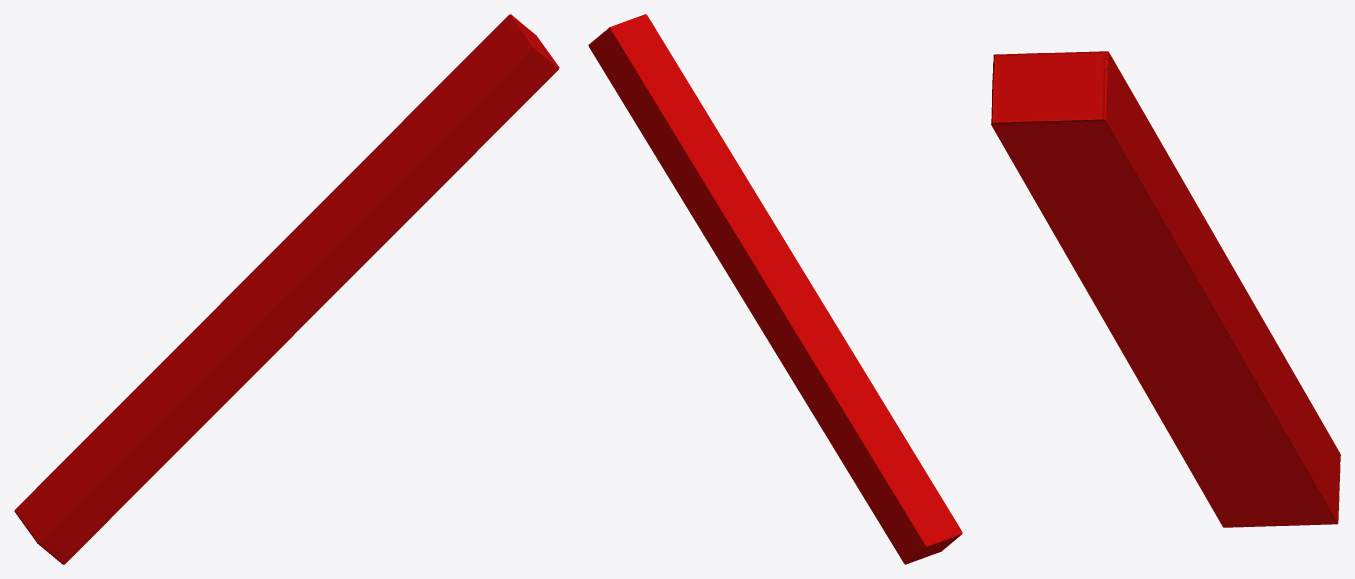
Rendered from empty.obj.
3 renders of one model, left to right at view 1: azimuth 30°, elevation 25°; view 2: azimuth 150°, elevation 25°; view 3: azimuth 270°, elevation 25°, orthographic. The views are drawn at different scales.
Parts seen in each view (by area): view 1: SubTool-9-13009072.008; view 2: SubTool-9-13009072.008; view 3: SubTool-9-13009072.008.
Boxes of the visible parts, x1,y1,x2,y2 form: SubTool-9-13009072.008: (14, 14, 559, 564); SubTool-9-13009072.008: (588, 14, 962, 564); SubTool-9-13009072.008: (991, 51, 1340, 527).
Size of the model in its own units: 0.714 by 0.6984 by 0.2669.
